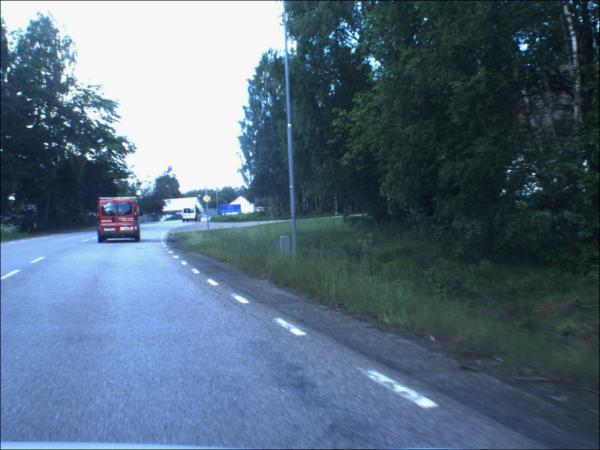PRIORITY_ROAD: (204, 197, 213, 204)
